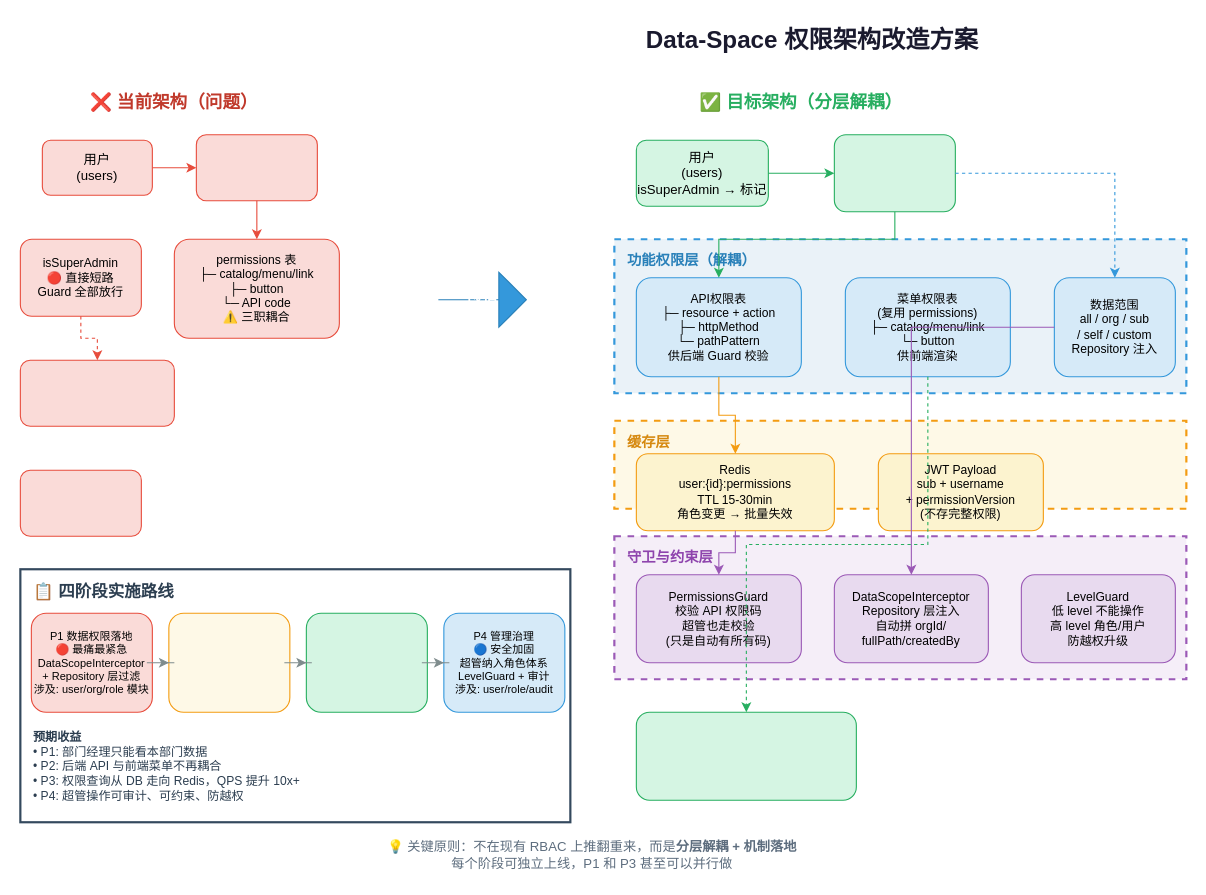
Some shapes in this 1206 by 895 pixel diagram are drawn without their labels. The centre of each missing label's shape, as x and y in pixels:
P2 功能权限解耦 🟡 架构清晰 API权限独立建表 菜单权限保持现状 涉及: permission/guard: (x=229, y=662)
P3 缓存与性能 🟢 体验优化 Redis 缓存权限 角色变更主动失效 涉及: auth/redis/cache: (x=366, y=662)
前端权限 (另一仓库) 口径不一致: (x=80, y=502)
前端（另一仓库） ├─ listMyMenu → 菜单树 ├─ listMyCodes → 按钮码 └─ 共享 DTO / 常量包: (x=745, y=755)
每次请求 → JwtStrategy → DB查权限 ⚠️ 无缓存: (x=96, y=392)
角色 (roles) dataScope + level 均生效: (x=894, y=173)
角色 (roles) dataScope=空气 level=摆设: (x=256, y=167)
